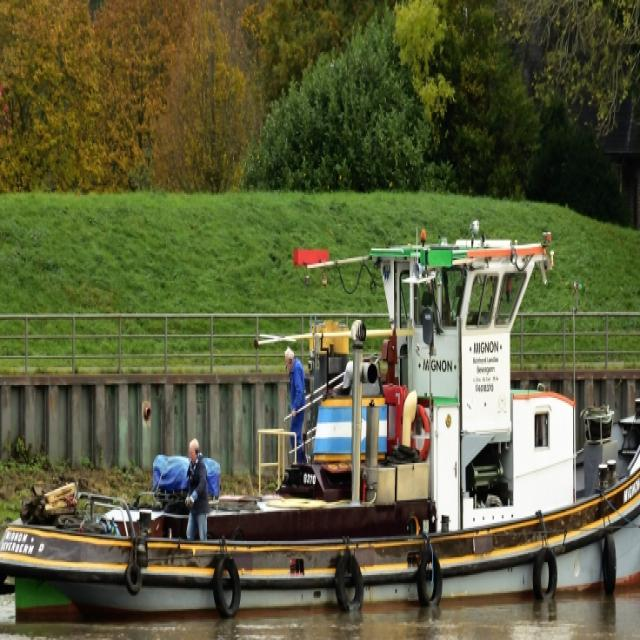tugboat: (1, 217, 640, 640)
